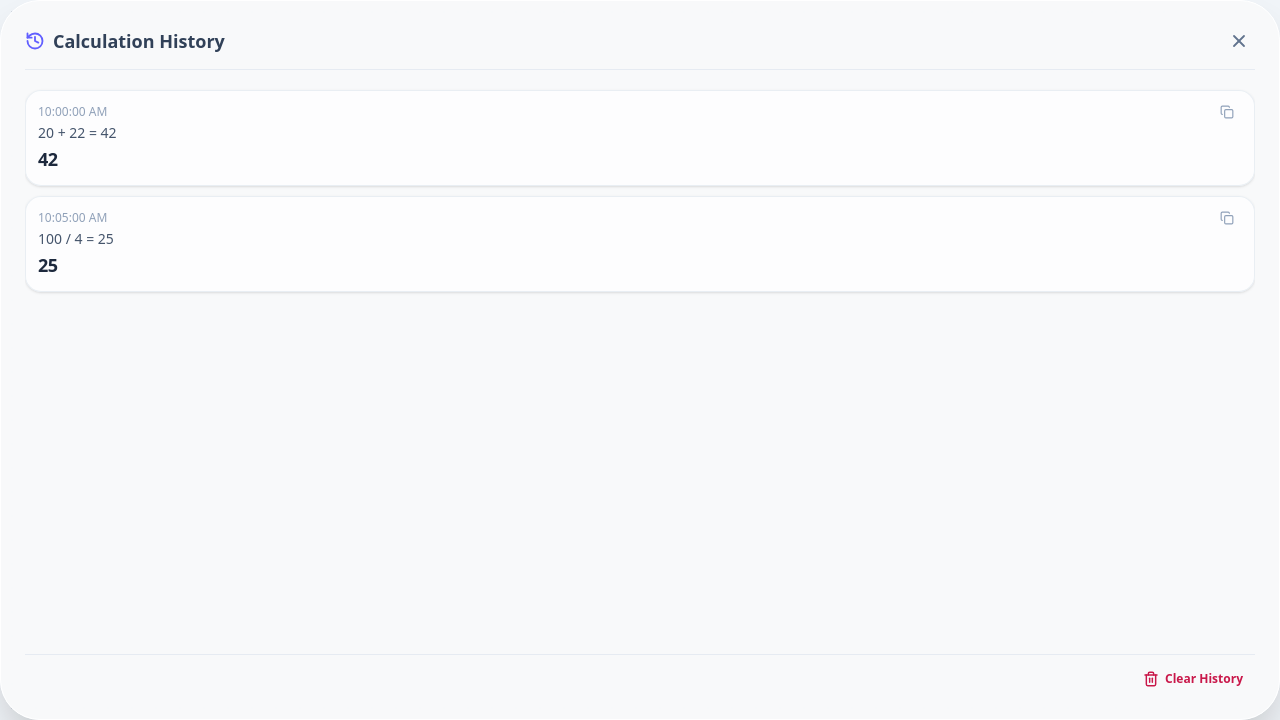
Scenario: HistoryDrawer Component › copies using document.execCommand fallback if clipboard API is unavailable
Click the button with test id "btn-copy-history". click: {"x": 1227, "y": 218}
box: left=1212, top=209, right=1242, bottom=227
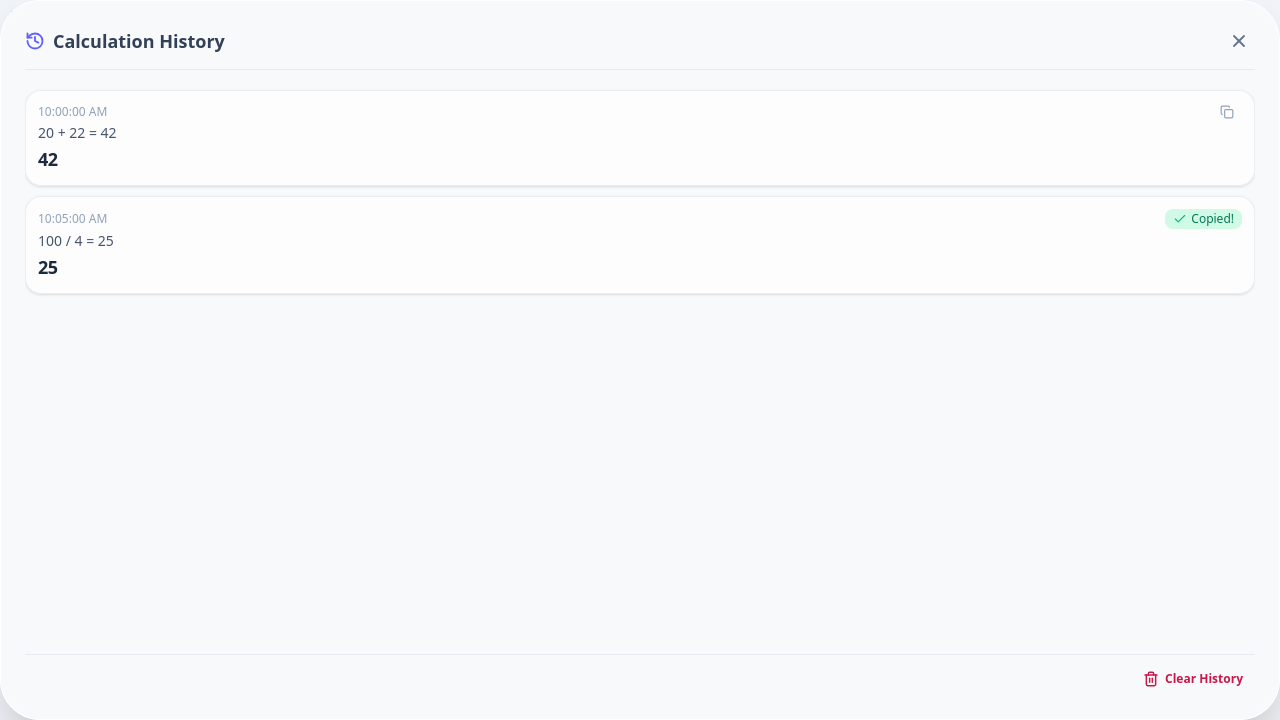
Now the text "Copied!" is shown, box left=1191, top=211, right=1234, bottom=227
